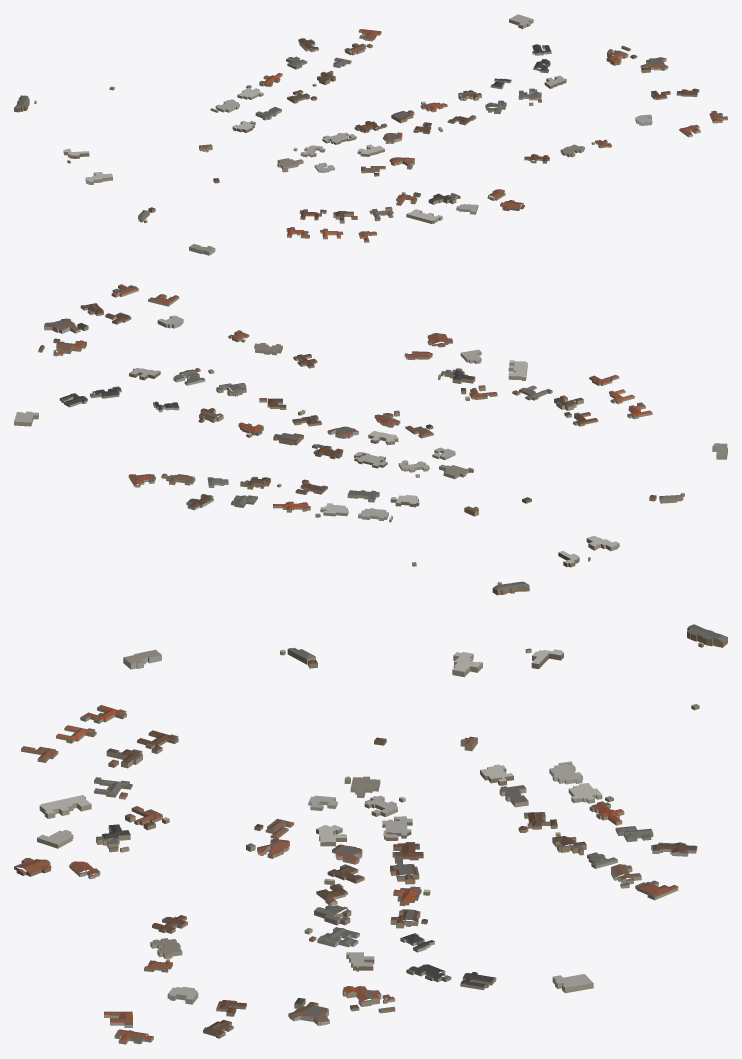
3 views of the same model, one above another, from view 1: azimuth 30°, elevation 25°; view 2: azimuth 150°, elevation 25°; view 3: azimuth 270°, elevation 25° (orthographic). The views are drawn at different scales.
Visible parts, largest first — view 1: buildings_r6_c0_lod1; view 2: buildings_r6_c0_lod1; view 3: buildings_r6_c0_lod1.
Part boxes in pixels (<box>): buildings_r6_c0_lod1: <box>14,14,727,255</box>; buildings_r6_c0_lod1: <box>14,284,727,595</box>; buildings_r6_c0_lod1: <box>14,624,727,1044</box>.
Size of the model in its own units: 1127 by 68.47 by 826.
